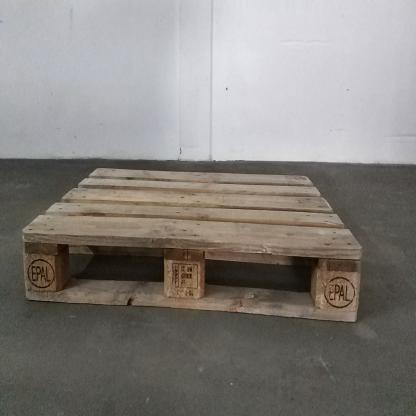BoxFace: (19, 162, 367, 325)
